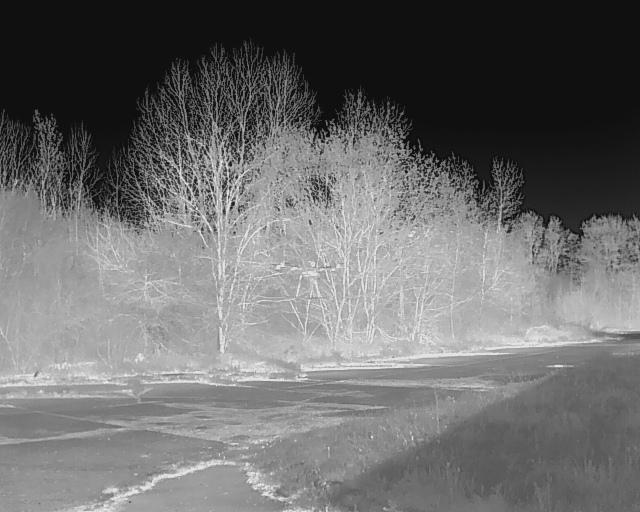drone: (270, 252, 349, 312)
